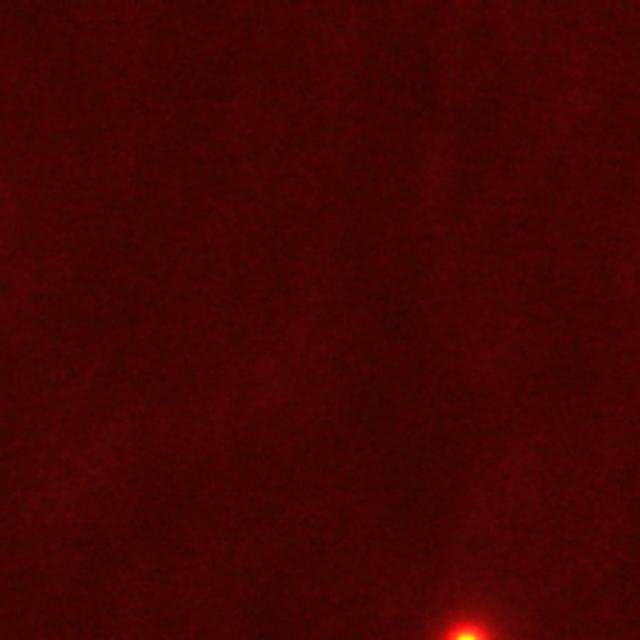Fragment: (450, 632, 486, 640)
